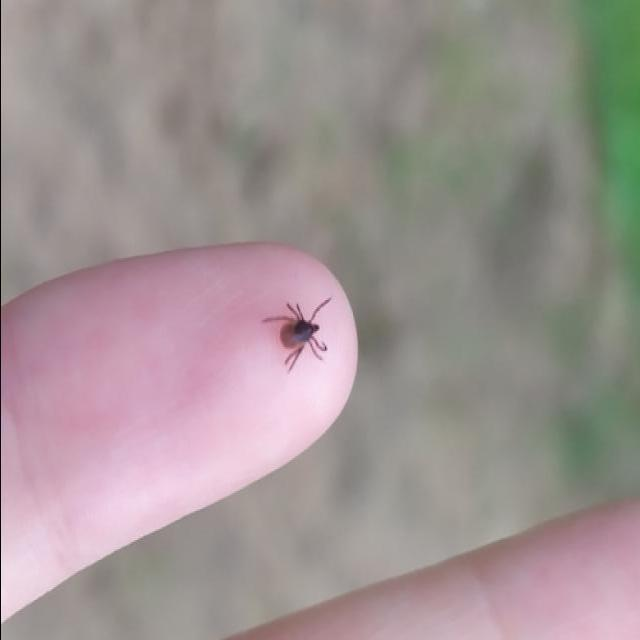Ixodes Ricinus-F: (262, 296, 330, 375)
